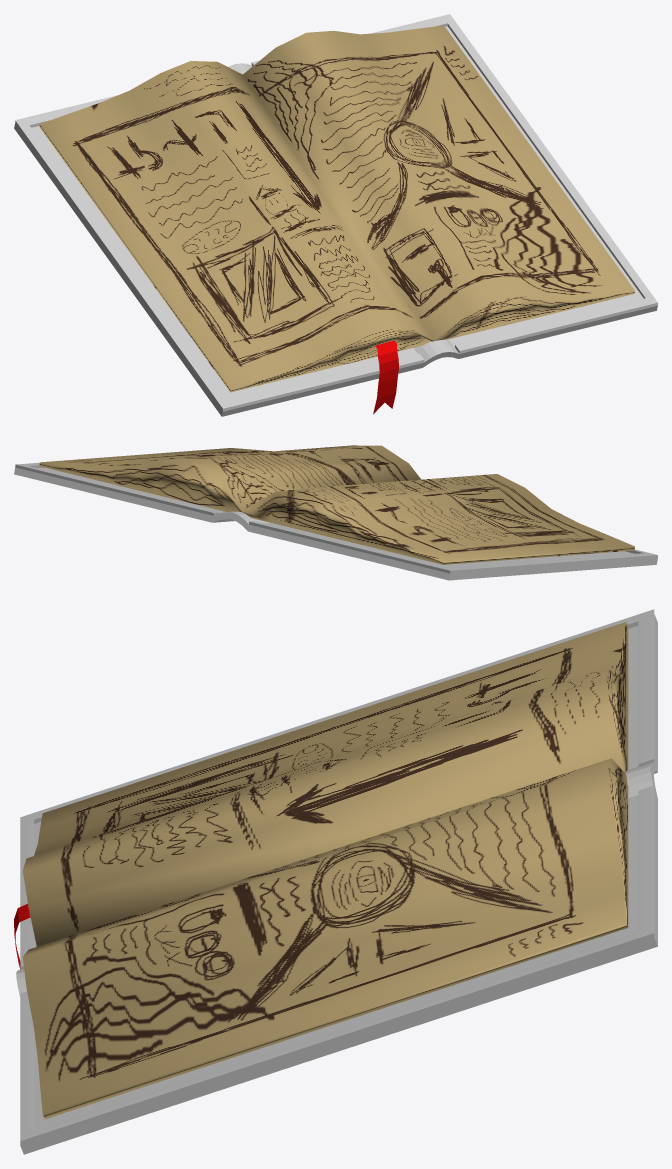
The picture shows the model from 3 angles, top to bottom: view 1: azimuth 30°, elevation 25°; view 2: azimuth 150°, elevation 25°; view 3: azimuth 270°, elevation 25°; orthographic projection. The views are drawn at different scales.
Visible parts, largest first — view 1: sflar, kapak; view 2: sflar, kapak; view 3: sflar, kapak.
Boxes of the visible parts, x1=… form: sflar: x1=39, y1=25, x2=634, y2=392; kapak: x1=14, y1=14, x2=657, y2=416; sflar: x1=39, y1=445, x2=634, y2=564; kapak: x1=14, y1=462, x2=657, y2=580; sflar: x1=22, y1=622, x2=628, y2=1119; kapak: x1=14, y1=609, x2=657, y2=1154.
Bounding box in the file's own units: 227 × 108 × 191.
